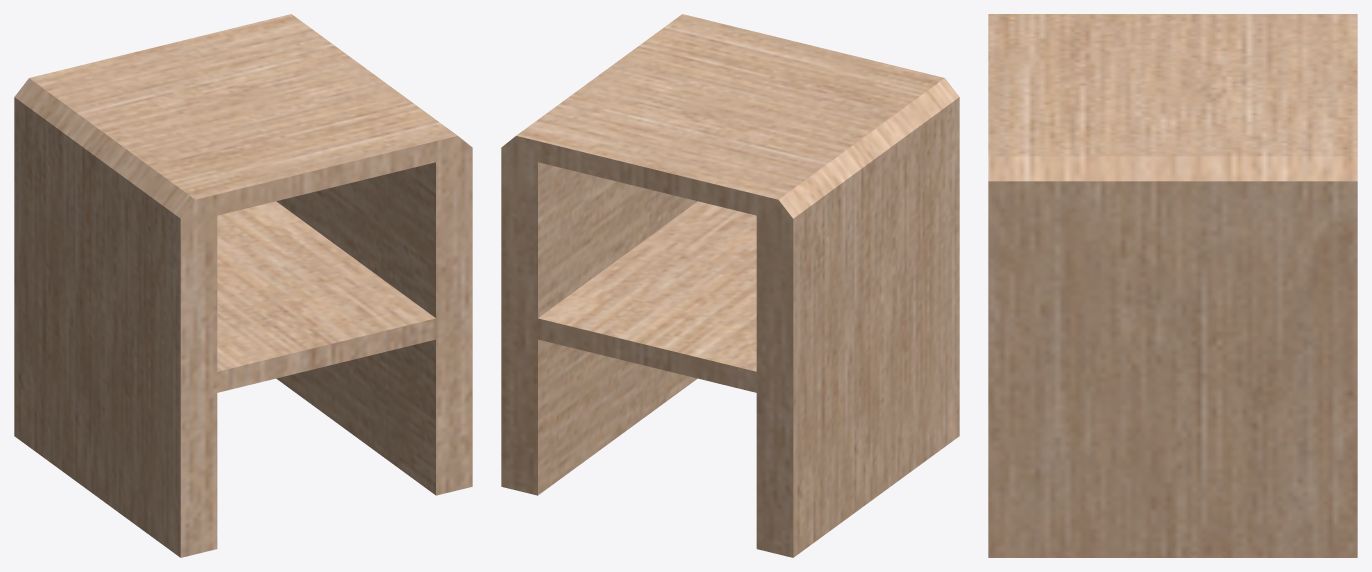
File: table_small.FBX
The picture shows the model from 3 angles, left to right: view 1: azimuth 30°, elevation 25°; view 2: azimuth 150°, elevation 25°; view 3: azimuth 270°, elevation 25°; orthographic projection. The views are drawn at different scales.
Visible parts, largest first — view 1: table_small; view 2: table_small; view 3: table_small.
Boxes of the visible parts, bbox=[...] form: table_small: bbox=[14, 14, 472, 557]; table_small: bbox=[501, 14, 959, 557]; table_small: bbox=[988, 14, 1357, 557].
Bounding box in the file's own units: 39.3 × 45.63 × 38.8.
